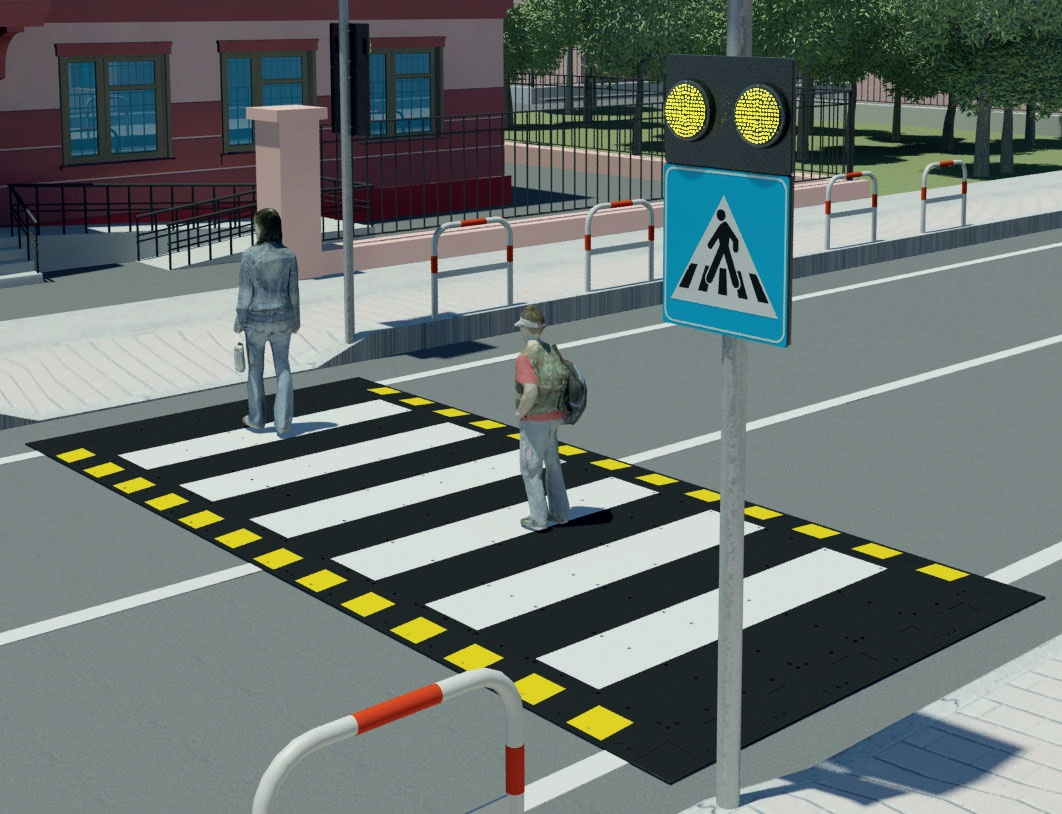pedestrian: (664, 168, 789, 335)
